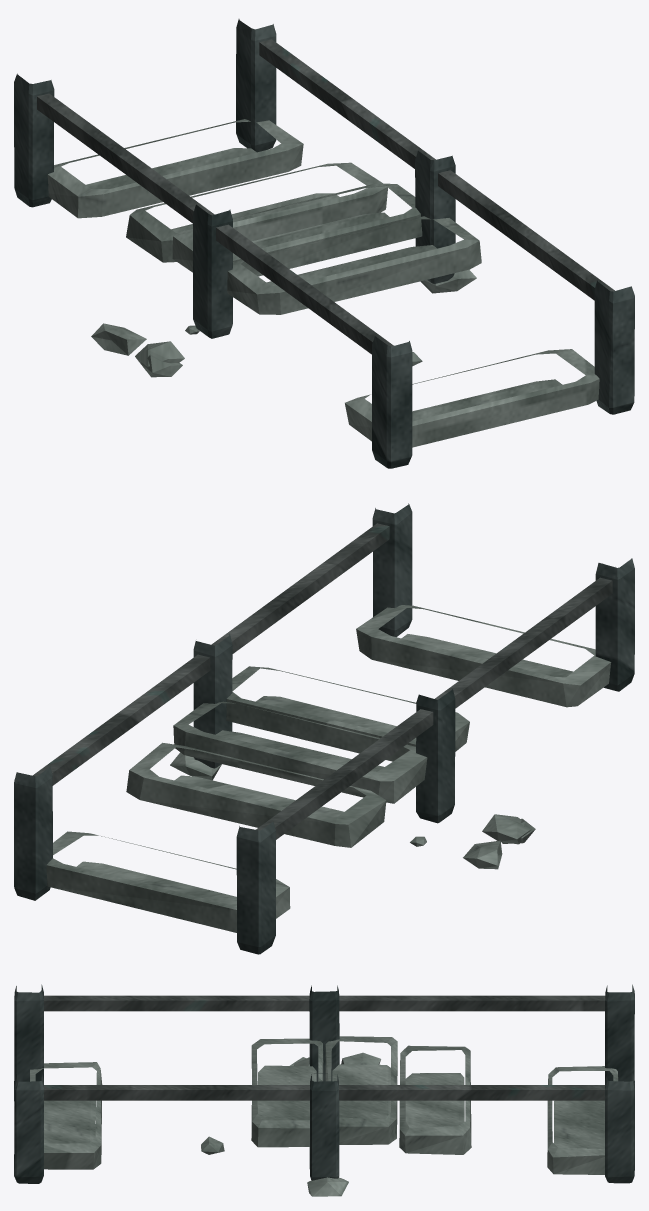
The model's file is 0383_ruined_bridge_08.glb.
3 views of the same model, one above another, from view 1: azimuth 30°, elevation 25°; view 2: azimuth 150°, elevation 25°; view 3: azimuth 270°, elevation 25° (orthographic). The views are drawn at different scales.
Parts seen in each view (by area): view 1: stone, stone_dark, iron; view 2: stone, stone_dark, iron; view 3: stone, iron, stone_dark.
Part boxes in pixels (x1,y1,x2,y2): stone: (47,119,599,447); stone_dark: (14,19,634,468); iron: (37,39,614,354); stone: (46,605,611,932); stone_dark: (14,503,634,954); iron: (33,523,612,839); stone: (30,1036,618,1196); iron: (44,995,605,1100); stone_dark: (14,984,634,1183).
Bounding box in the file's own units: 2.8 × 1.1 × 5.24.
3 materials, 3 textured.
